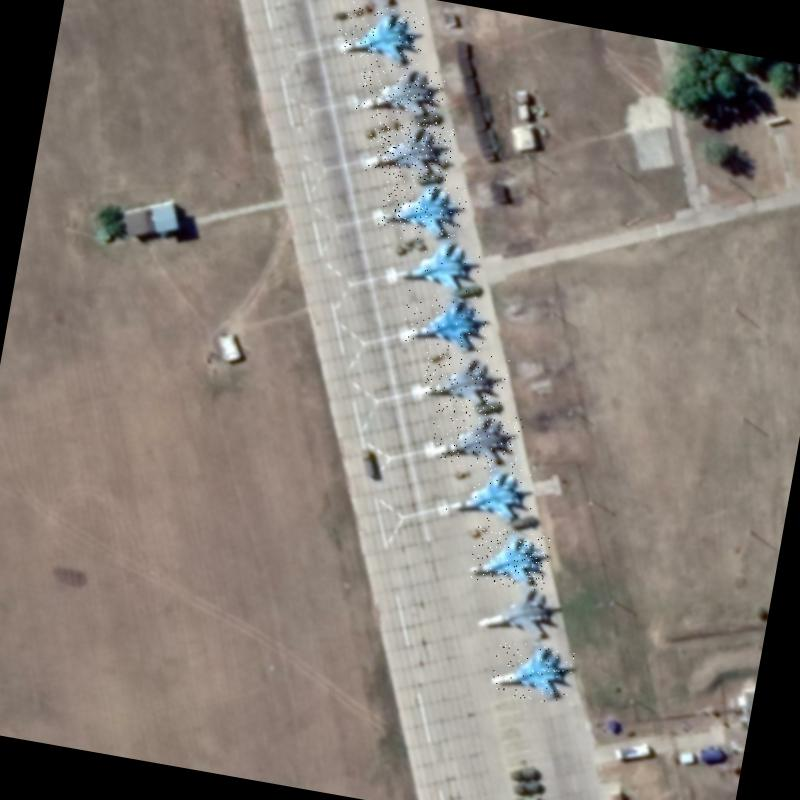A19: (416, 343, 511, 416), (476, 574, 568, 649), (427, 404, 524, 474), (362, 115, 456, 185), (400, 286, 492, 357), (445, 458, 537, 528), (335, 1, 428, 70), (392, 230, 483, 300), (354, 60, 448, 127), (378, 174, 470, 242), (490, 636, 576, 707), (468, 524, 552, 592)
